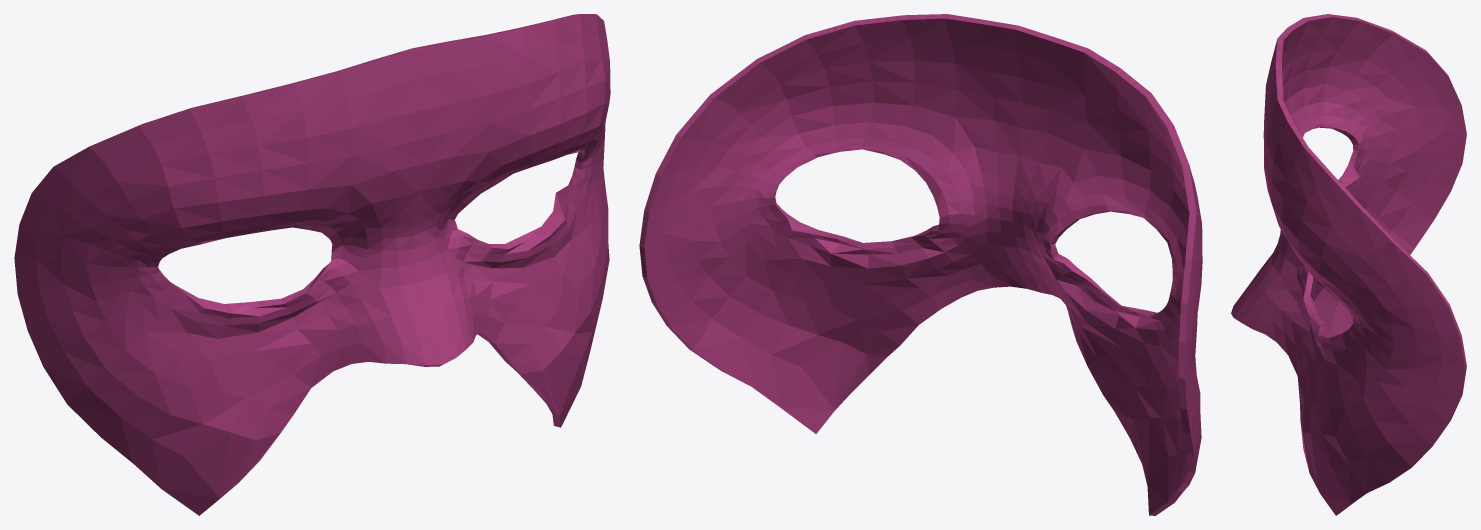
Rendered from mhw_culturalibre_hero_mask_3.glb.
3 views of the same model, side by side, from view 1: azimuth 30°, elevation 25°; view 2: azimuth 150°, elevation 25°; view 3: azimuth 270°, elevation 25° (orthographic). The views are drawn at different scales.
Parts seen in each view (by area): view 1: mhw_culturalibre_hero_mask_3; view 2: mhw_culturalibre_hero_mask_3; view 3: mhw_culturalibre_hero_mask_3.
Part boxes in pixels (x1,y1,x2,y2): mhw_culturalibre_hero_mask_3: (14, 14, 610, 515); mhw_culturalibre_hero_mask_3: (639, 14, 1202, 515); mhw_culturalibre_hero_mask_3: (1231, 14, 1466, 515).
Bounding box in the file's own units: 0.139 × 0.1031 × 0.0585.
1 material, 1 textured.
